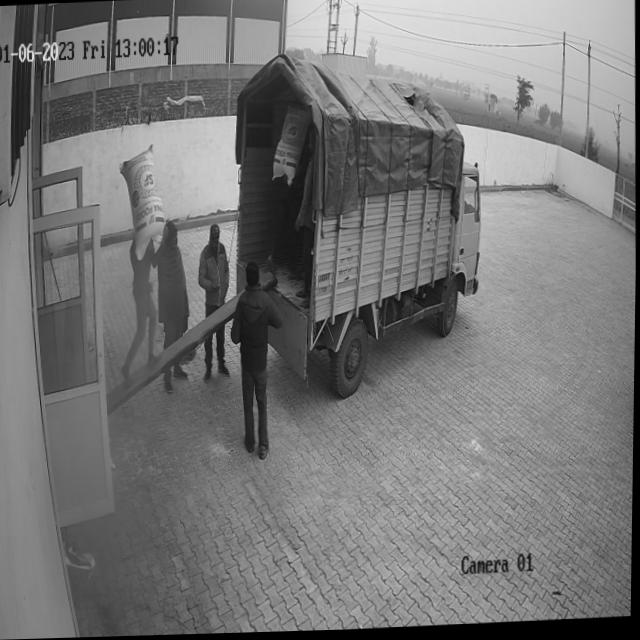sack: (118, 144, 168, 263), (270, 101, 313, 189)
